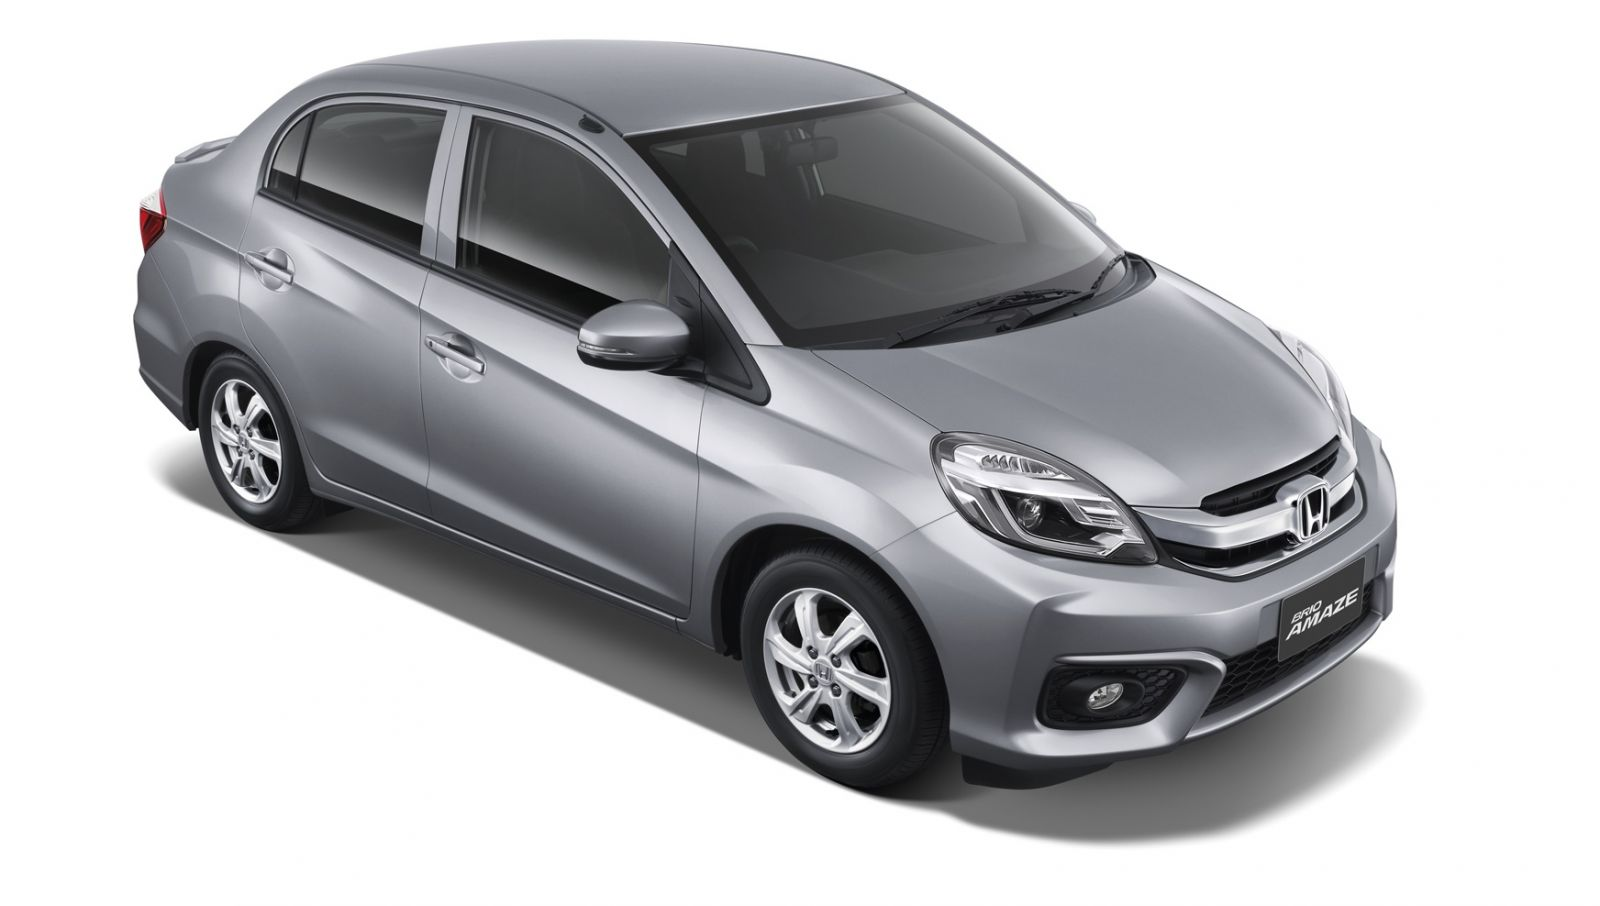sedan: (127, 34, 1405, 802)
